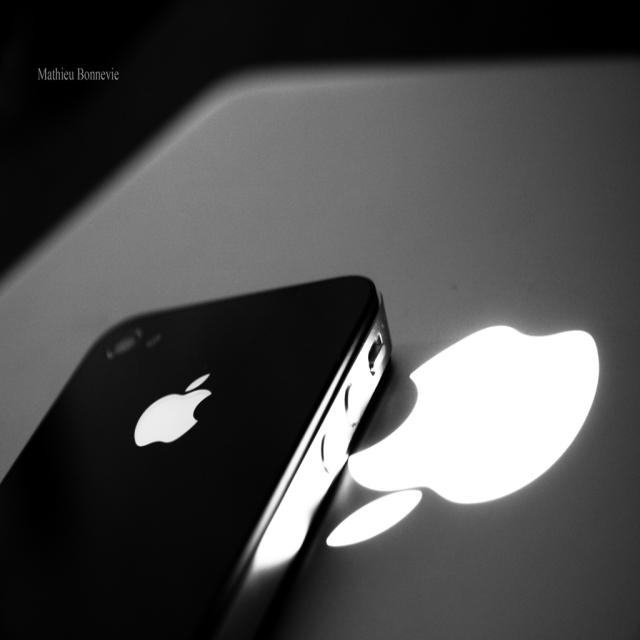apple: (325, 314, 615, 581), (121, 362, 223, 463)
